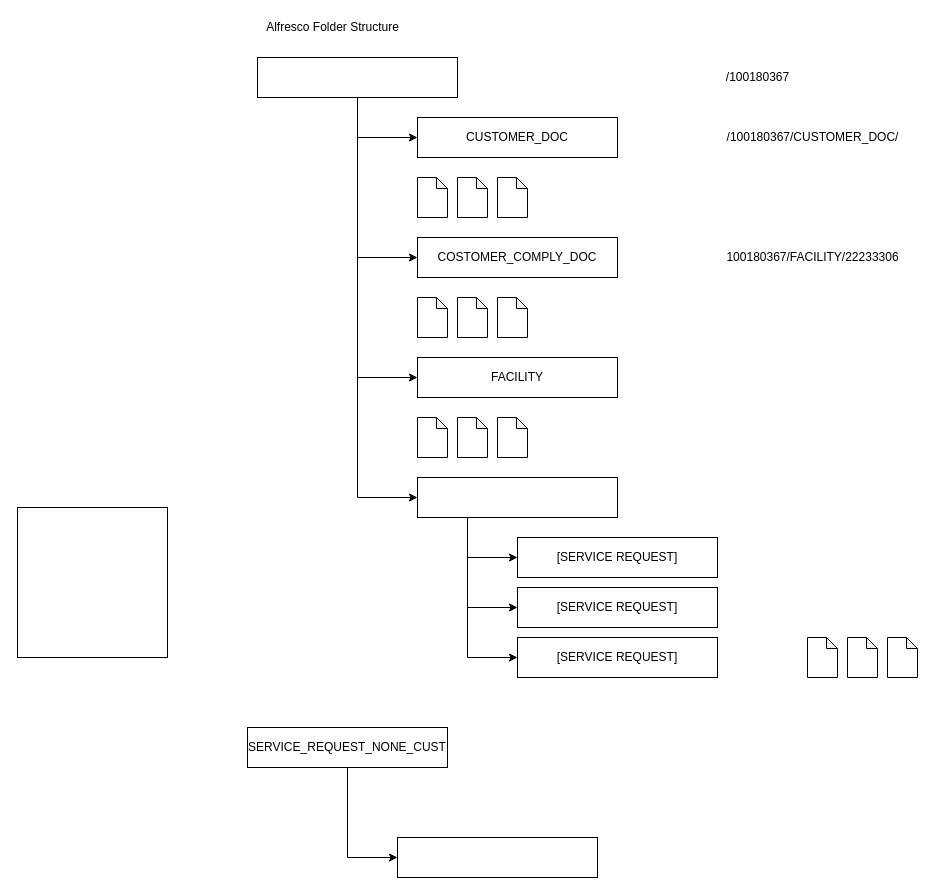
This 935x895 diagram has some shape labels left out. Each missing label, with the centre of its shape:
[SERVICE REQUEST ID]: (x=497, y=857)
customer_id srNo type refNo fileName uuid attachmentType: (x=92, y=582)
CUSTOMER_RUNNING_ID: (x=357, y=77)
SERVICE_REQUEST: (x=517, y=497)
